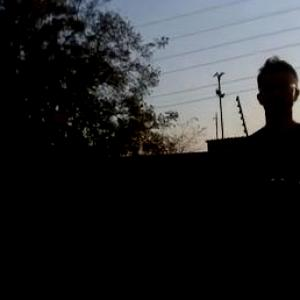follow: (230, 48, 300, 299)
